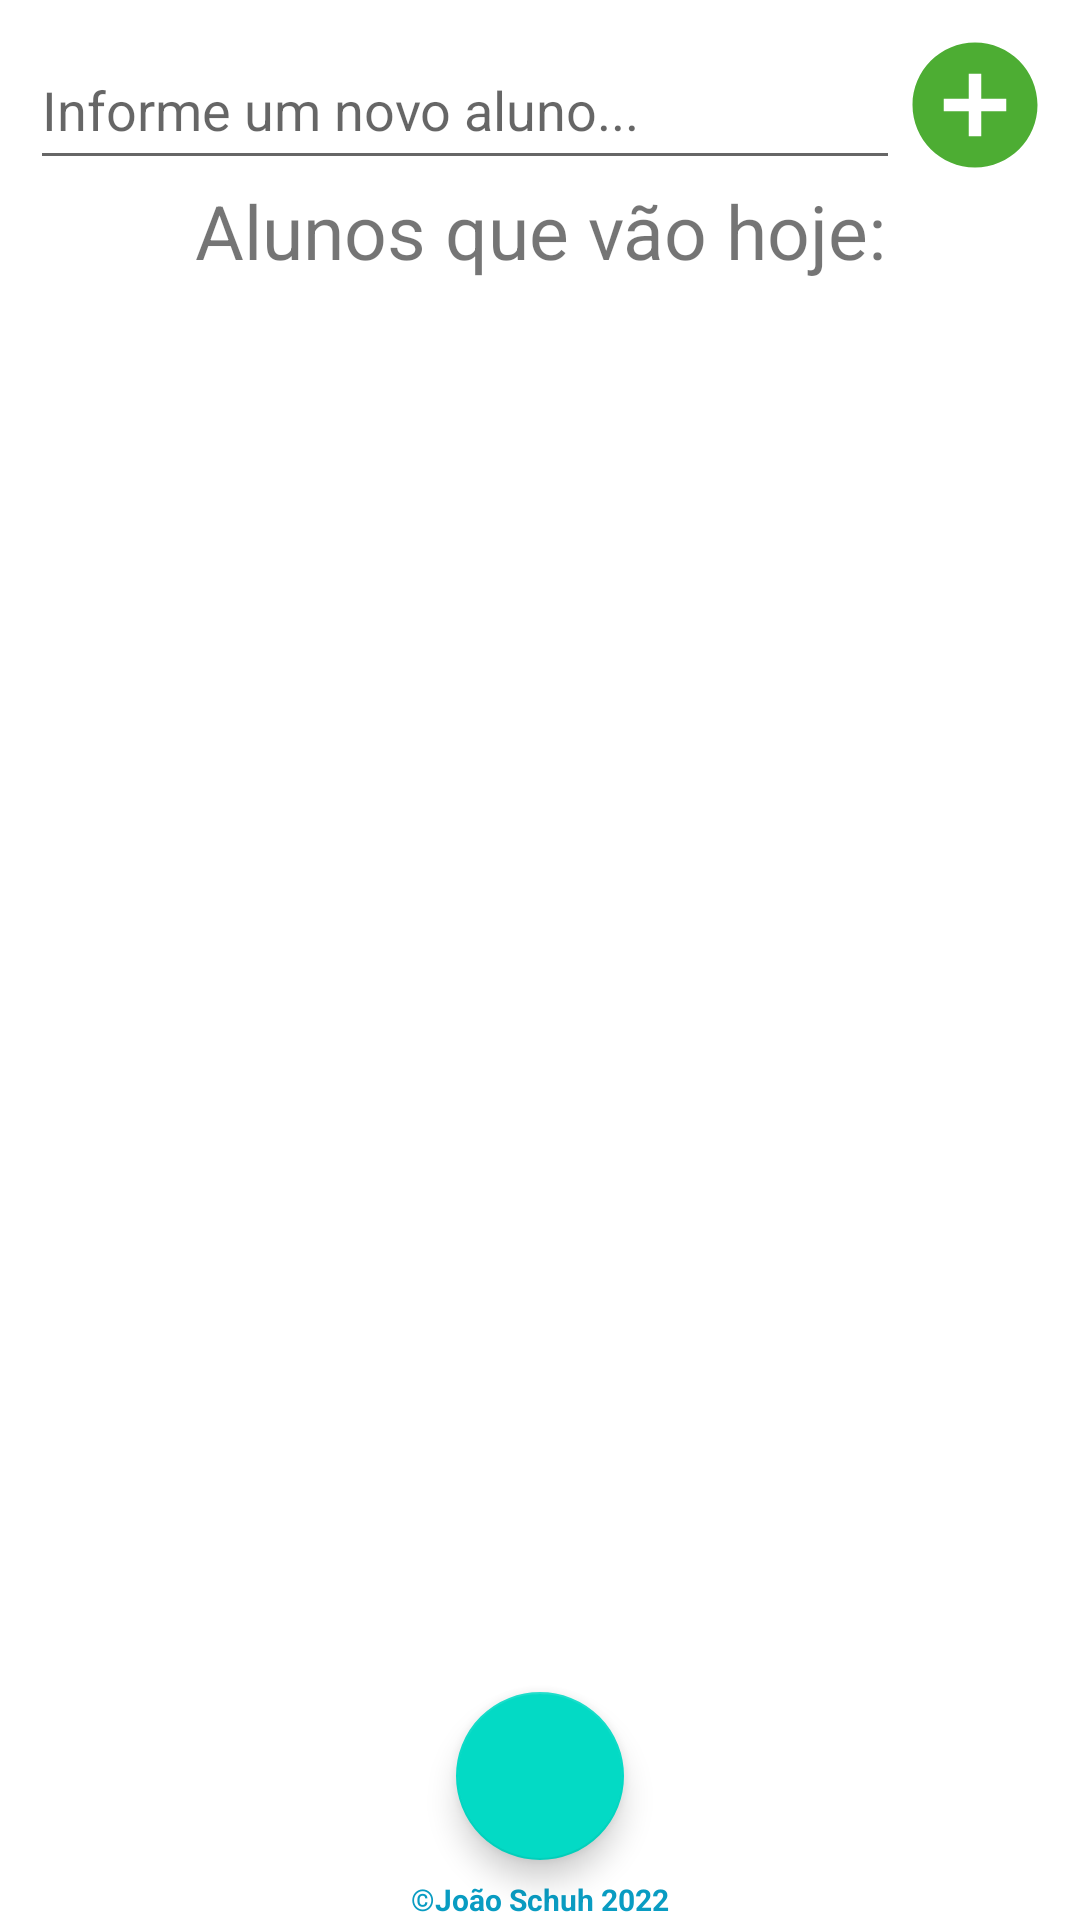

Locate icon controls on the screen. Image size 1080*1920, boxes as (x1, y1, x2, y2).
add: (912, 42, 1038, 168)
